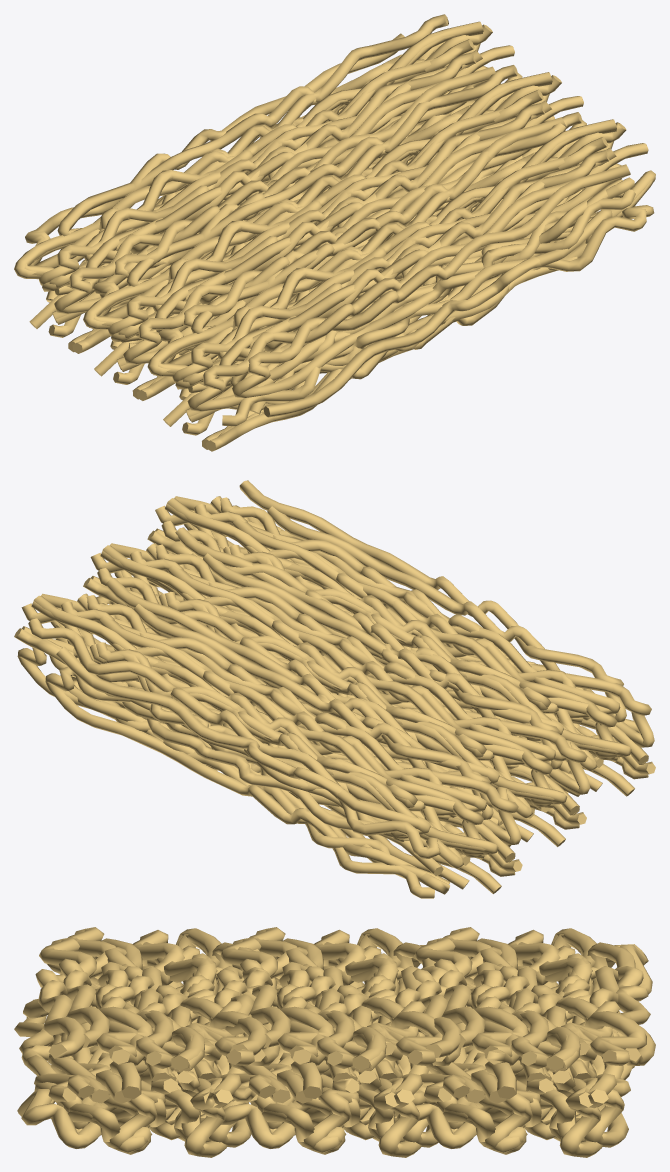
The model's file is noodle.glb.
The picture shows the model from 3 angles, top to bottom: view 1: azimuth 30°, elevation 25°; view 2: azimuth 150°, elevation 25°; view 3: azimuth 270°, elevation 25°; orthographic projection. The views are drawn at different scales.
Parts seen in each view (by area): view 1: Plane.003; view 2: Plane.003; view 3: Plane.003.
Part boxes in pixels (x1,y1,x2,y2): Plane.003: (14,14,655,451); Plane.003: (14,480,655,898); Plane.003: (14,927,655,1157).
Size of the model in its own units: 1.35 by 0.5343 by 1.12.
